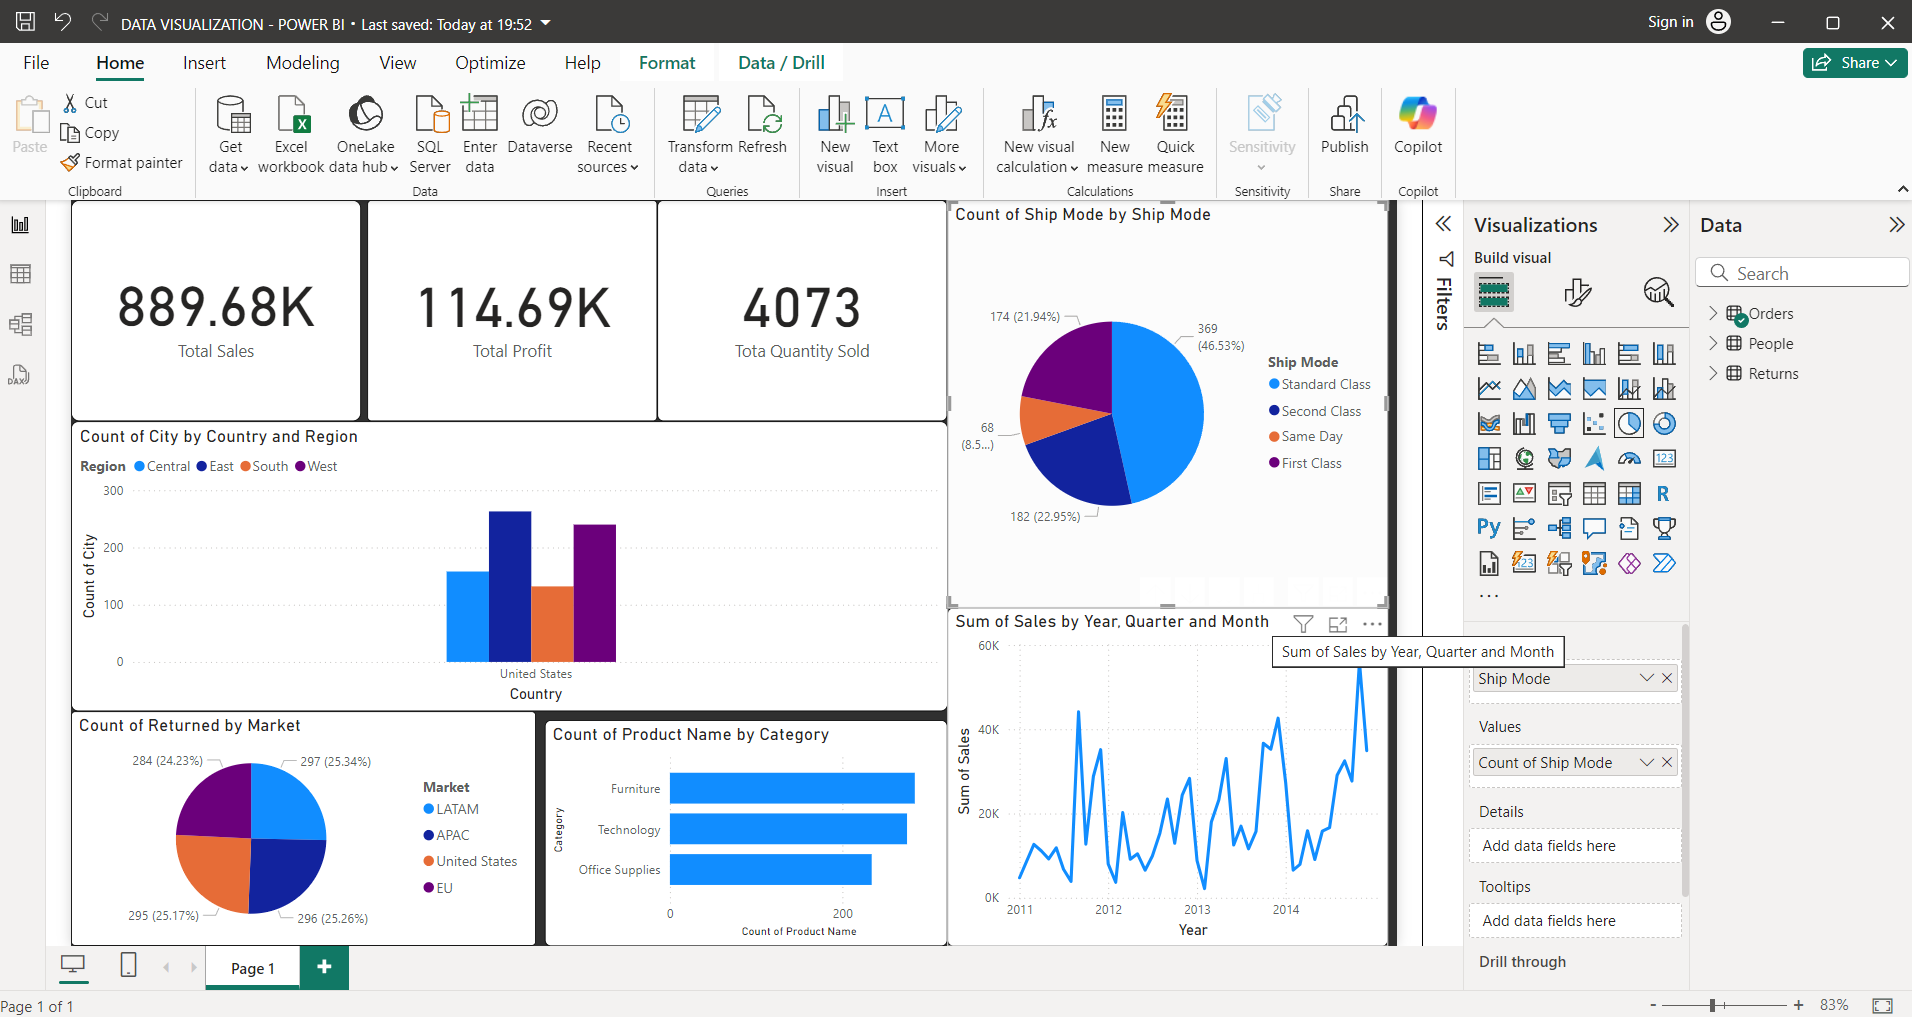

This screenshot's page, from the dashboard's own definition file:
{"tool":"powerbi","page":{"name":"Page 1","canvas":[1280,720],"ordinal":0},"visuals":[{"type":"card","fields":{"Values":["Orders.Total Sales"]},"box":[0,0,280,214],"z":0},{"type":"card","fields":{"Values":["Orders.Tota Quantity Sold"]},"box":[566.2,0,280,214],"z":1000},{"type":"card","fields":{"Values":["Orders.Total Profit"]},"box":[286.1,0,280,214],"z":2000},{"type":"clusteredColumnChart","fields":{"Category":["Orders.Country"],"Y":["CountNonNull(Orders.City)"],"Series":["Orders.Region"]},"box":[0,214,846.2,280],"z":3000},{"type":"clusteredBarChart","fields":{"Category":["Orders.Category"],"Y":["CountNonNull(Orders.Product Name)"]},"box":[457.2,501.9,388.5,218.4],"z":4000},{"type":"pieChart","fields":{"Category":["Returns.Market"],"Y":["CountNonNull(Returns.Returned)"]},"box":[0,494,448.7,226.4],"z":5000},{"type":"pieChart","fields":{"Category":["Orders.Ship Mode"],"Y":["CountNonNull(Orders.Ship Mode)"]},"box":[845.7,0,425.9,393.3],"z":6000},{"type":"actionButton","box":[0,0,200,50],"z":7000},{"type":"lineChart","fields":{"Y":["Sum(Orders.Sales)"],"Category":["Orders.Order Date.Variation.Date Hierarchy.Year","Orders.Order Date.Variation.Date Hierarchy.Quarter","Orders.Order Date.Variation.Date Hierarchy.Month"]},"box":[845.7,393.3,425.9,326.9],"z":8000}]}

Visuals, with their boxes on the page's 1280x720 design canvas (x1, y1, x2, y2). These are canvas units, not pixel positions in the 1912x1017 screenshot, which may show the page scaled, cropped or inside an application window:
card - Orders.Total Sales: 0, 0, 280, 214
card - Orders.Tota Quantity Sold: 566, 0, 846, 214
card - Orders.Total Profit: 286, 0, 566, 214
clusteredColumnChart - Orders.Country x CountNonNull(Orders.City): 0, 214, 846, 494
clusteredBarChart - Orders.Category x CountNonNull(Orders.Product Name): 457, 502, 846, 720
pieChart - Returns.Market x CountNonNull(Returns.Returned): 0, 494, 449, 720
pieChart - Orders.Ship Mode x CountNonNull(Orders.Ship Mode): 846, 0, 1272, 393
actionButton: 0, 0, 200, 50
lineChart - Sum(Orders.Sales) x Orders.Order Date.Variation.Date Hierarchy.Year: 846, 393, 1272, 720
